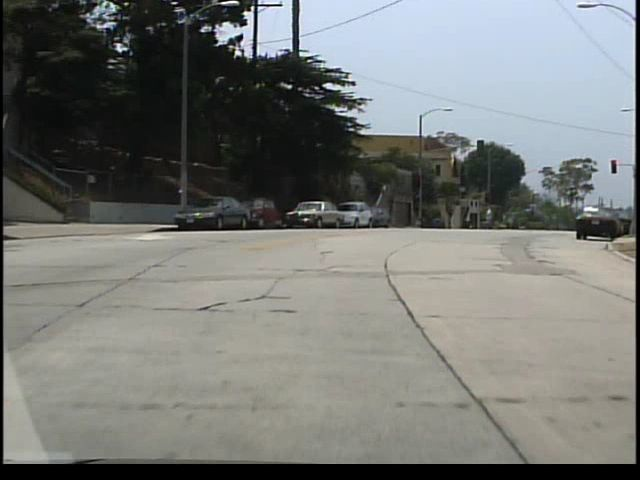person: (489, 206, 497, 229)
